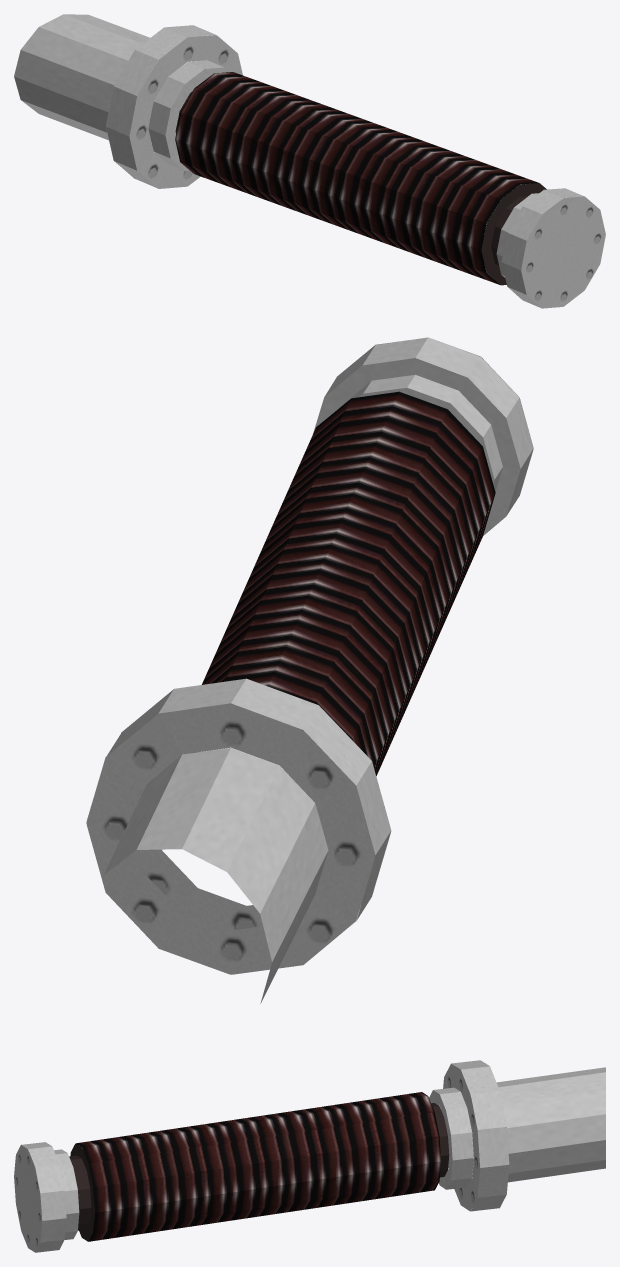
The model's file is kgjyzz025-geode.glb.
The picture shows the model from 3 angles, top to bottom: view 1: azimuth 30°, elevation 25°; view 2: azimuth 150°, elevation 25°; view 3: azimuth 270°, elevation 25°; orthographic projection. The views are drawn at different scales.
Visible parts, largest first — view 1: Node; view 2: Node; view 3: Node.
Boxes of the visible parts, box(x1,y1,x2,y2) form: Node: box(14, 14, 605, 308); Node: box(86, 337, 533, 1003); Node: box(14, 1060, 605, 1252).
Bounding box in the file's own units: 0.3264 × 0.165 × 0.6521.
4 materials, 4 textured.
